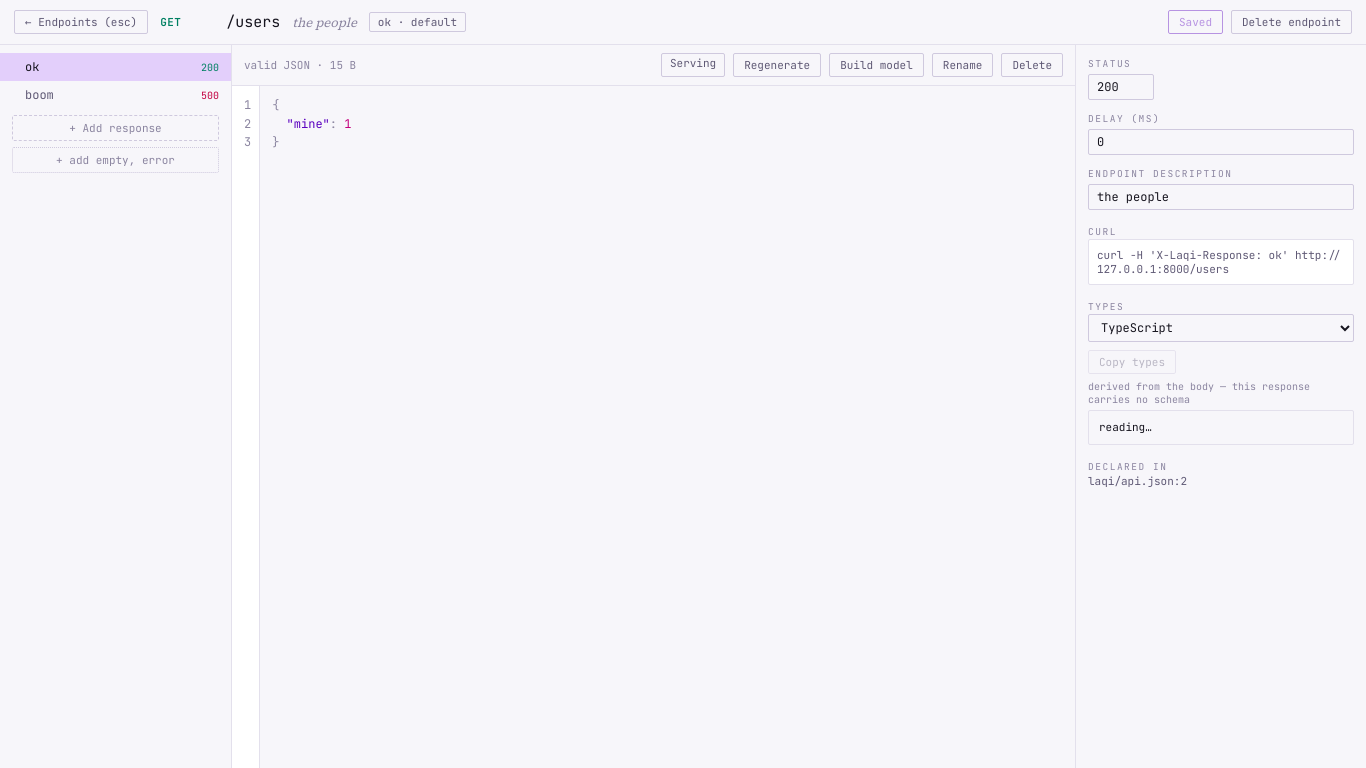
Test case: generated types and data › shows both sides, so the decision can be made by looking
Click the button "Regenerate": (777, 65) [733,53,821,77]
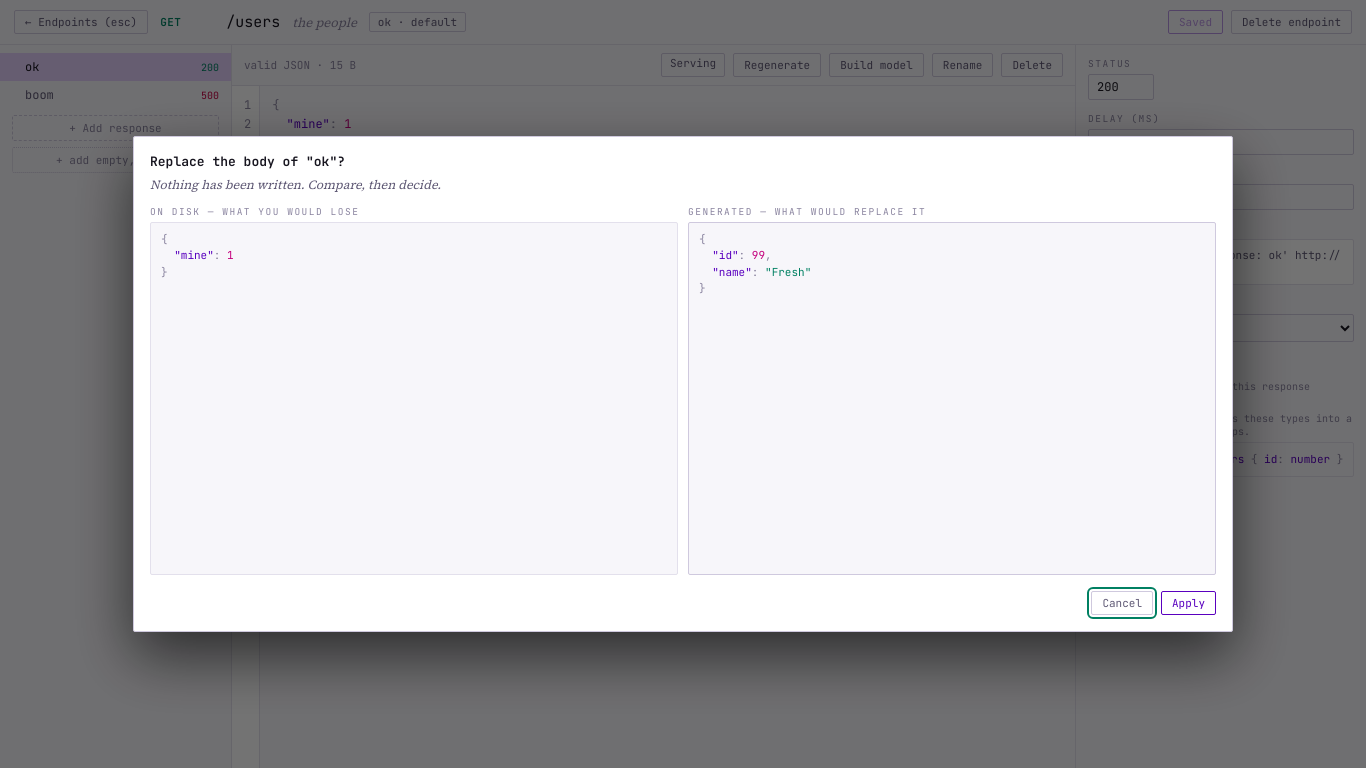
Expected: the dialog is shown, [133,136,1233,632]
Expected: the element named "body on disk" shows "\"mine\"", [174,248,214,262]
Expected: the element named "generated body" shows "\"Fresh\"", [765,265,811,279]
